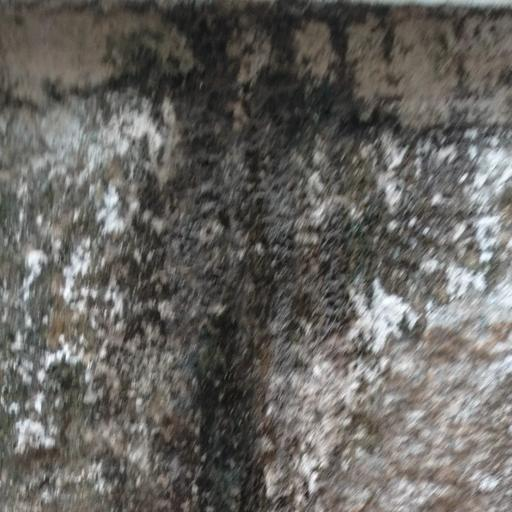stain: (44, 3, 512, 512)
